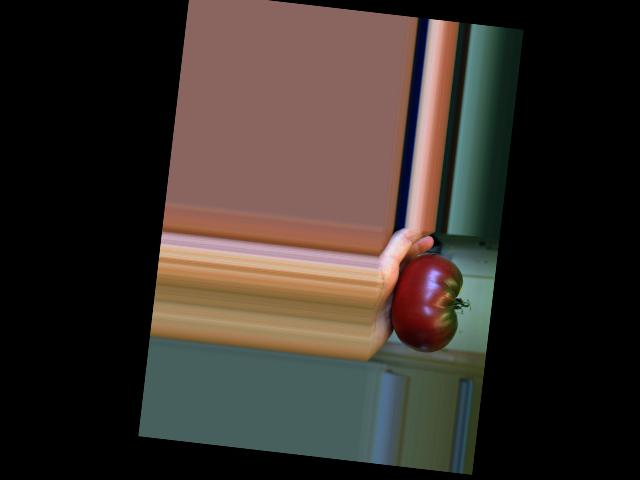tomato: (386, 250, 465, 355)
